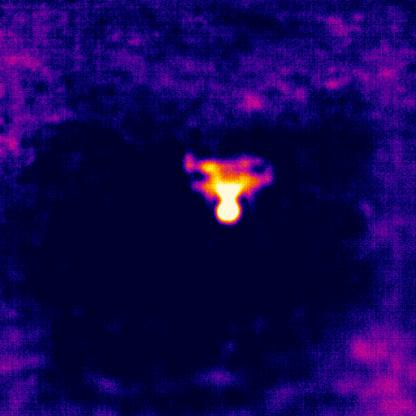drone: (182, 151, 274, 221)
